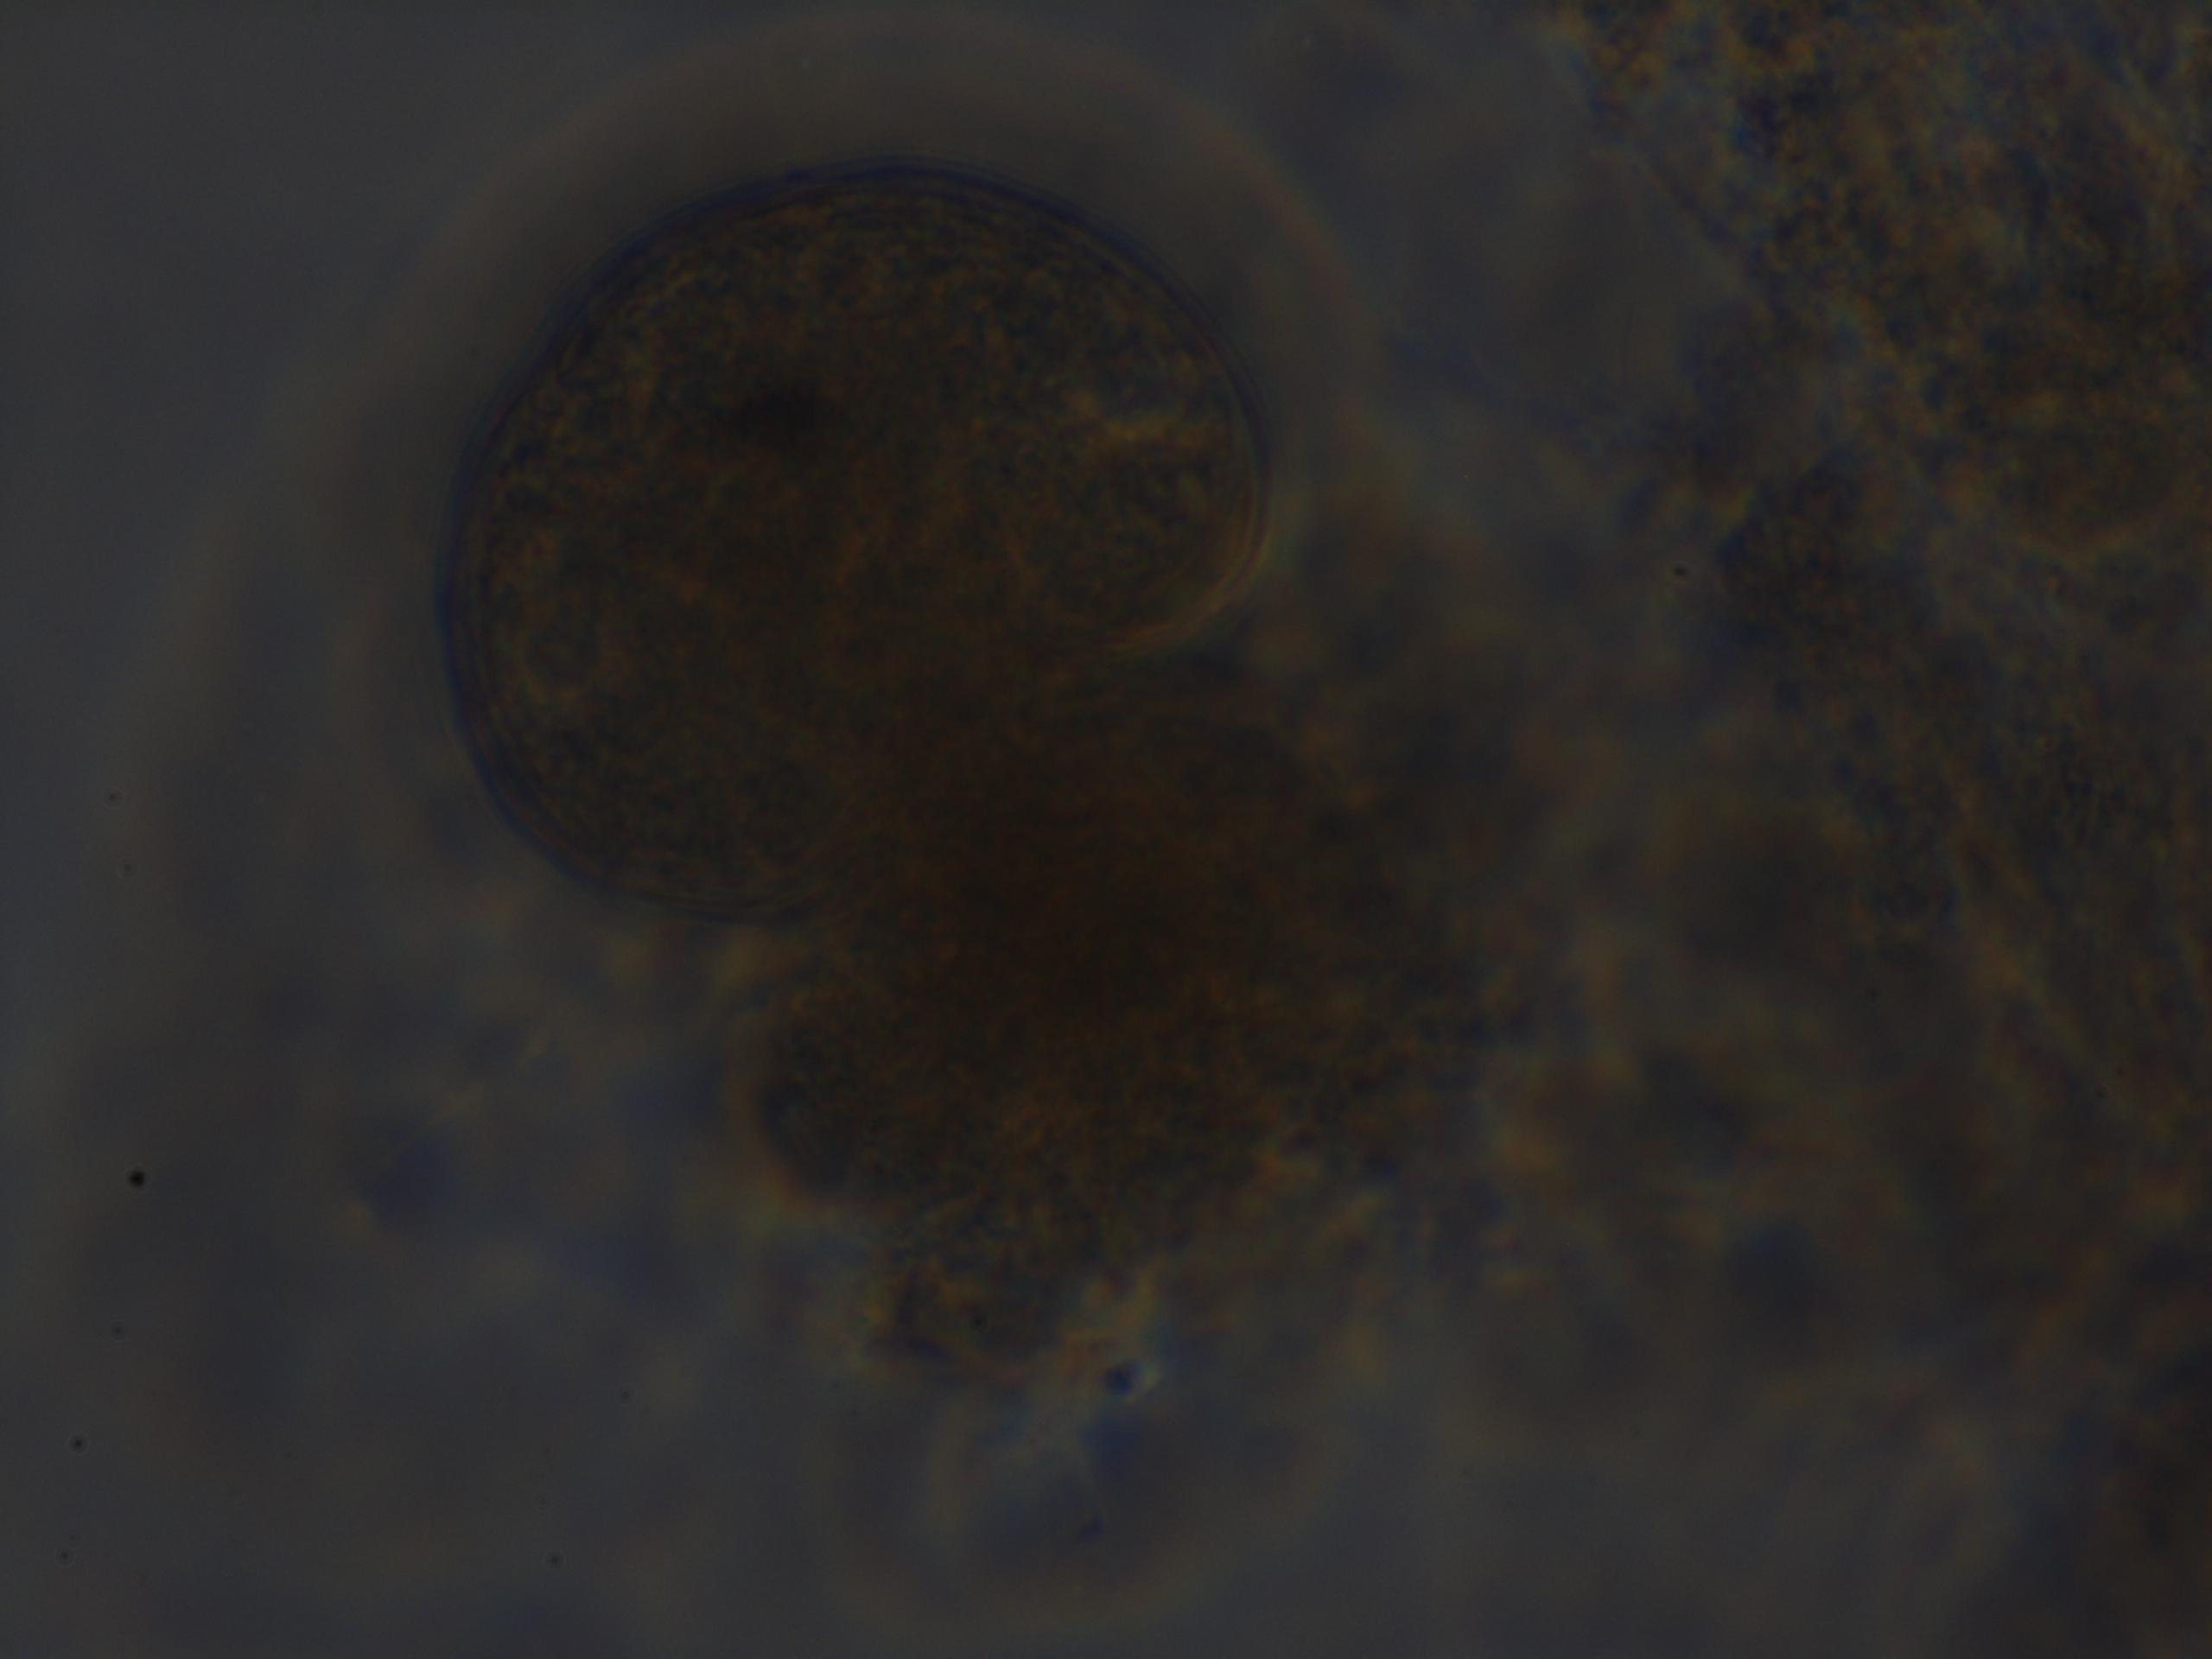protozoa: (338, 92, 1359, 925)
